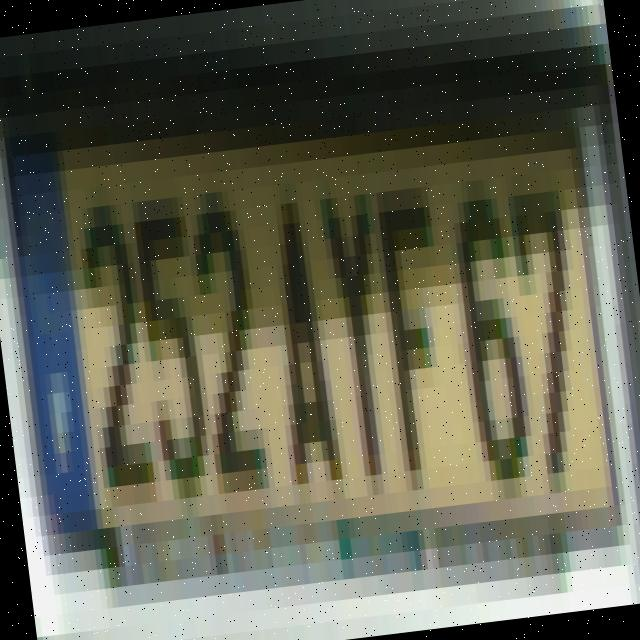EU: (3, 108, 628, 580)
France: (4, 132, 99, 546)
